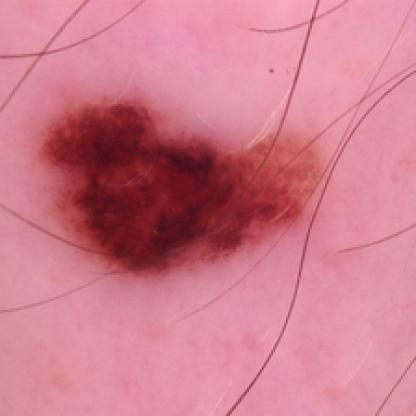benign: (44, 93, 328, 271)
